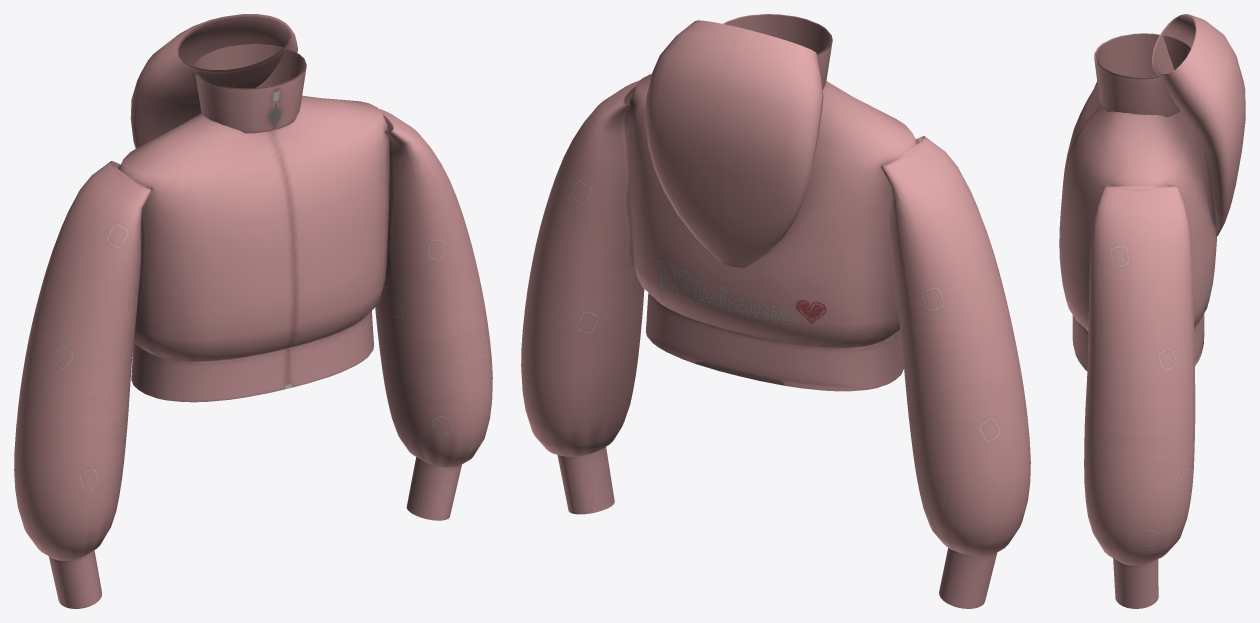
File: jbib_000.fbx
3 views of the same model, side by side, from view 1: azimuth 30°, elevation 25°; view 2: azimuth 150°, elevation 25°; view 3: azimuth 270°, elevation 25° (orthographic). The views are drawn at different scales.
Parts seen in each view (by area): view 1: jbib_000; view 2: jbib_000; view 3: jbib_000.
Boxes of the visible parts, x1,y1,x2,y2 form: jbib_000: (14,14,492,608); jbib_000: (521,14,1030,608); jbib_000: (1059,14,1245,608).
Size of the model in its own units: 70.76 by 75.73 by 26.
